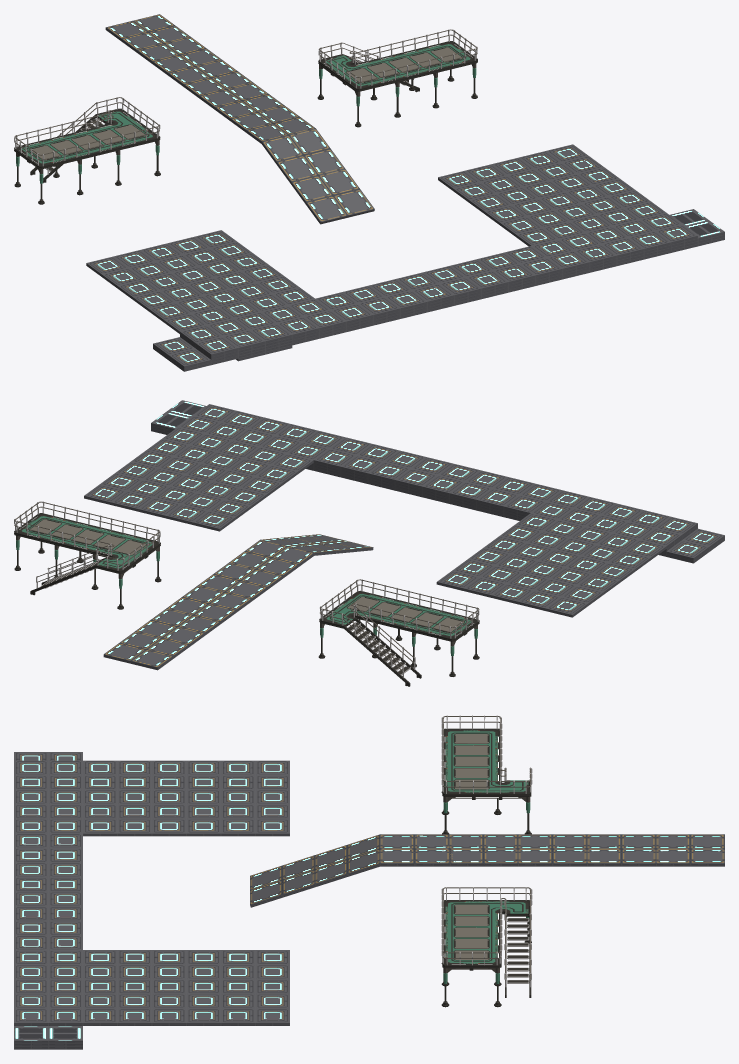
Rendered from MusicFloor.glb.
3 renders of one model, top to bottom at view 1: azimuth 30°, elevation 25°; view 2: azimuth 150°, elevation 25°; view 3: azimuth 270°, elevation 25°, orthographic. The views are drawn at different scales.
Parts seen in each view (by area): view 1: SM_Bld_Corp_Platform_01, SM_Bld_Corp_Platform_01__1_, SM_Bld_Platform_Large_10__9_, SM_Bld_Platform_Large_10__10_, SM_Bld_Platform_Large_10__12_, SM_Bld_Platform_Large_10__13_, SM_Bld_Platform_Large_10__14_, SM_Bld_Platform_Large_10__7_, SM_Bld_Platform_Large_10__8_, SM_Bld_Platform_Large_06__17_; view 2: SM_Bld_Corp_Platform_01__1_, SM_Bld_Corp_Platform_01, SM_Bld_Platform_Large_10__14_, SM_Bld_Platform_Large_10__7_, SM_Bld_Platform_Large_10__12_, SM_Bld_Platform_Large_10__13_, SM_Bld_Platform_Large_10__8_, SM_Bld_Platform_Large_06__17_, SM_Bld_Platform_Large_10__9_, SM_Bld_Platform_Large_10__10_, SM_Bld_Platform_Small_05__58_, SM_Bld_Platform_Small_05__9_ (+30 smaller); view 3: SM_Bld_Corp_Platform_01, SM_Bld_Corp_Platform_01__1_, SM_Bld_Platform_Large_10__12_, SM_Bld_Platform_Large_10__13_, SM_Bld_Platform_Large_10__14_, SM_Bld_Platform_Large_10__9_, SM_Bld_Platform_Large_10__10_, SM_Bld_Platform_Large_10__7_, SM_Bld_Platform_Large_10__8_, SM_Bld_Platform_Large_06__17_, SM_Bld_Platform_Small_05__12_, SM_Bld_Platform_Small_05__16_ (+38 smaller).
Part boxes in pixels (x1,y1,x2,y2): SM_Bld_Corp_Platform_01: (317,29,477,127); SM_Bld_Corp_Platform_01__1_: (14,97,160,183); SM_Bld_Platform_Large_10__9_: (291,169,374,224); SM_Bld_Platform_Large_10__10_: (261,128,345,183); SM_Bld_Platform_Large_10__12_: (168,60,252,97); SM_Bld_Platform_Large_10__13_: (137,37,221,75); SM_Bld_Platform_Large_10__14_: (105,14,190,52); SM_Bld_Platform_Large_10__7_: (199,82,284,120); SM_Bld_Platform_Large_10__8_: (230,105,315,143); SM_Bld_Platform_Large_06__17_: (670,209,724,247); SM_Bld_Corp_Platform_01__1_: (319,579,479,686); SM_Bld_Corp_Platform_01: (14,501,161,609); SM_Bld_Platform_Large_10__14_: (103,631,188,670); SM_Bld_Platform_Large_10__7_: (198,562,283,601); SM_Bld_Platform_Large_10__12_: (166,585,251,624); SM_Bld_Platform_Large_10__13_: (135,608,220,647); SM_Bld_Platform_Large_10__8_: (229,539,314,577); SM_Bld_Platform_Large_06__17_: (151,400,205,430); SM_Bld_Platform_Large_10__9_: (291,534,373,552); SM_Bld_Platform_Large_10__10_: (261,537,343,555); SM_Bld_Platform_Small_05__58_: (545,597,588,617); SM_Bld_Platform_Small_05__9_: (192,511,235,531); SM_Bld_Corp_Platform_01: (441,887,532,1007); SM_Bld_Corp_Platform_01__1_: (441,715,532,813); SM_Bld_Platform_Large_10__12_: (518,834,586,866); SM_Bld_Platform_Large_10__13_: (587,834,655,866); SM_Bld_Platform_Large_10__14_: (656,834,724,866); SM_Bld_Platform_Large_10__9_: (250,855,315,907); SM_Bld_Platform_Large_10__10_: (315,834,380,886); SM_Bld_Platform_Large_10__7_: (449,834,517,866); SM_Bld_Platform_Large_10__8_: (380,834,448,866); SM_Bld_Platform_Large_06__17_: (14,1026,82,1043); SM_Bld_Platform_Small_05__12_: (117,819,151,836); SM_Bld_Platform_Small_05__16_: (186,819,220,836).
Bounding box in the file's own units: 50 × 5.77 × 51.53.
Materials: 1 (1 with a texture image).
